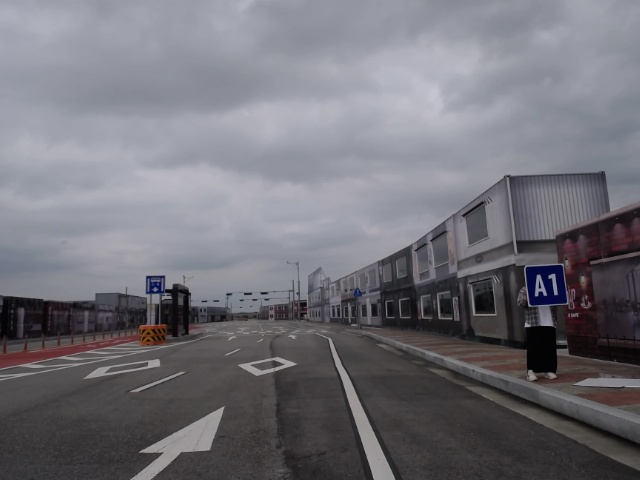delivery_a1: (525, 264, 569, 307)
